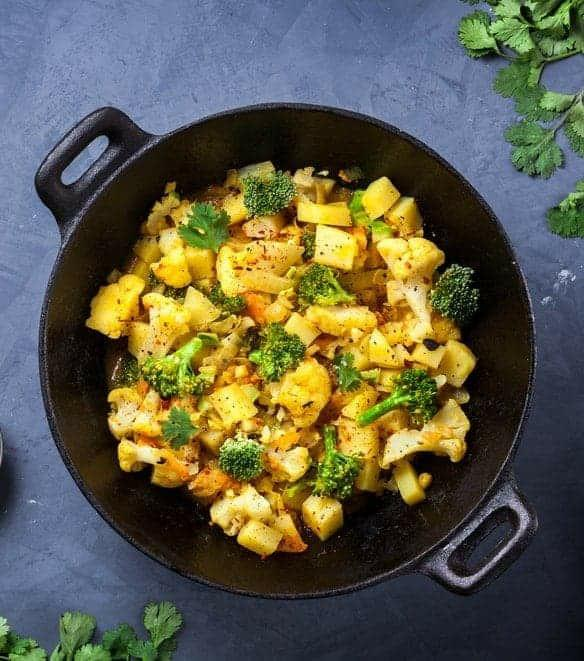AlooGobi: (88, 163, 476, 554)
